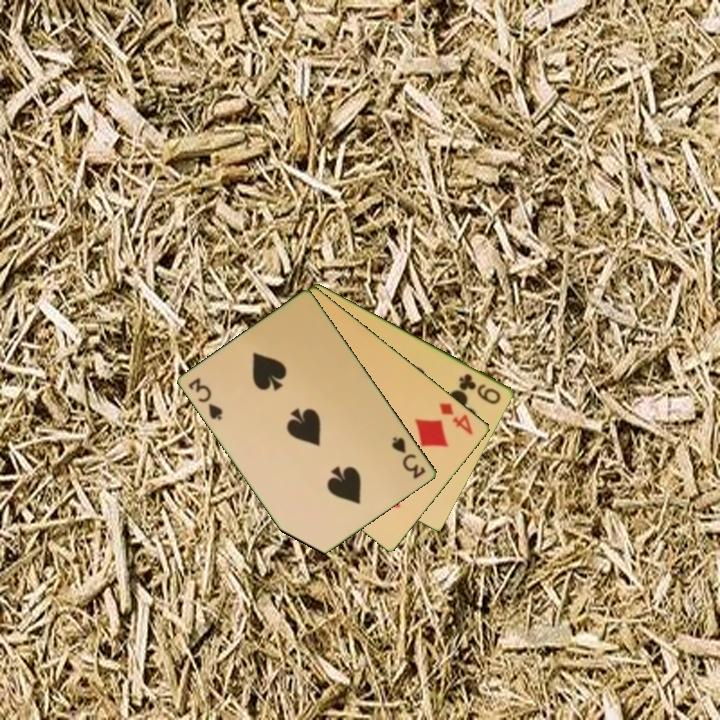3s: (388, 433, 429, 482), (185, 374, 226, 423)
4d: (436, 399, 476, 438)
9c: (455, 370, 504, 407)
